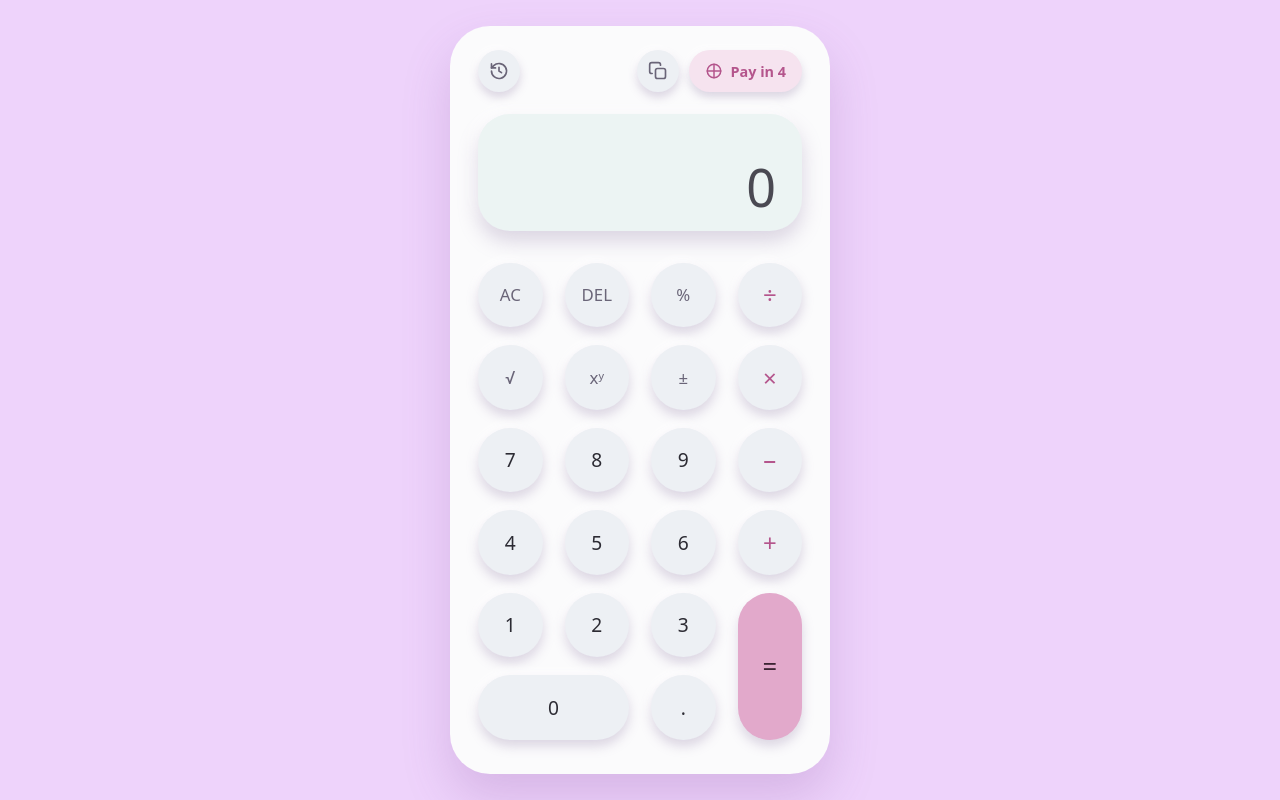
Scenario: History › shows an empty state and focuses the close button
Click the button named "History". click: (499, 71)
box: [478, 50, 520, 92]
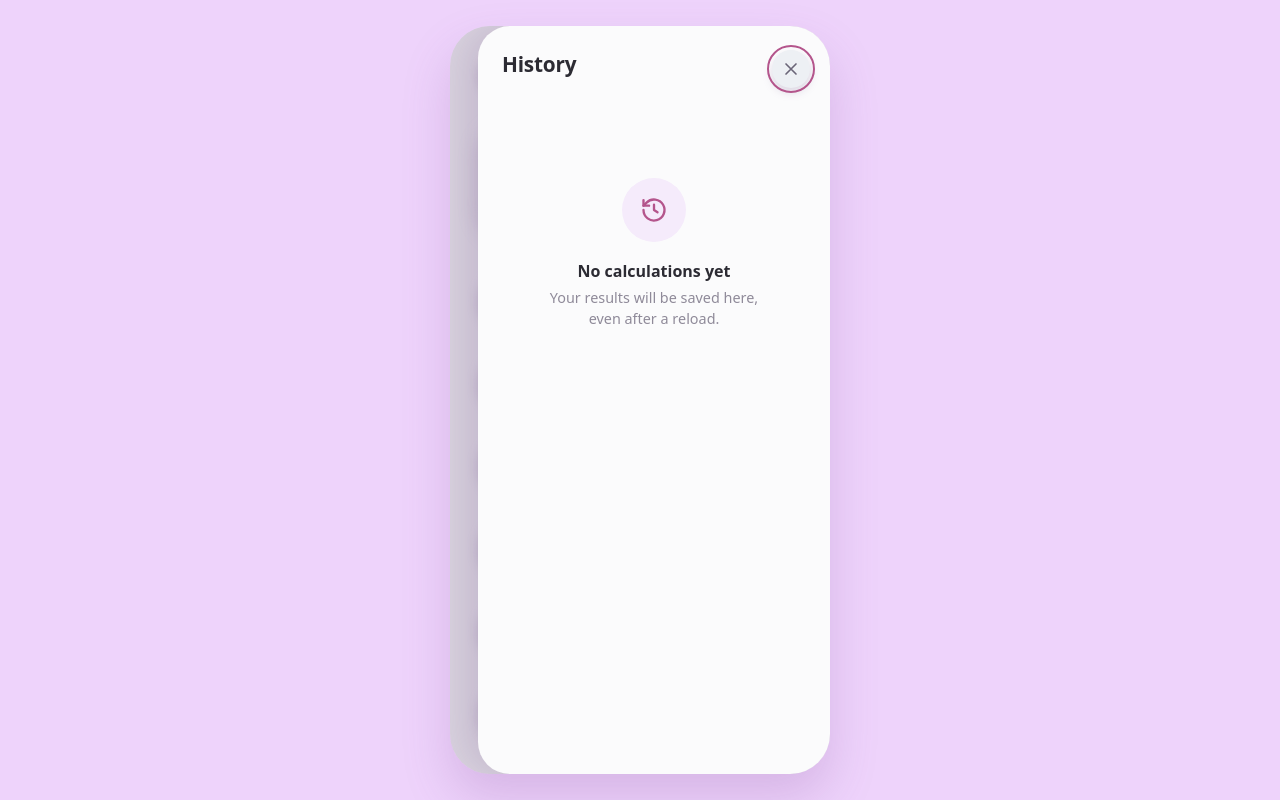
Now the text "No calculations yet" is shown, box [578, 260, 730, 282]
